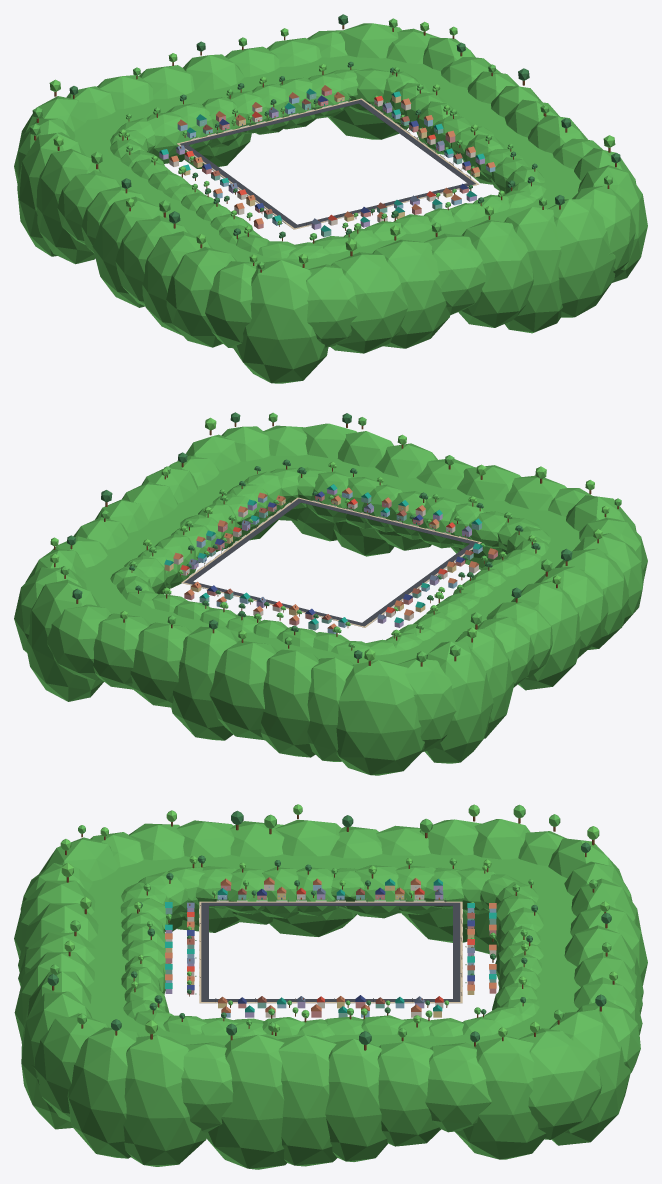
Rendered from CatCafe_Neighbourhood_Backdrop.glb.
3 renders of one model, top to bottom at view 1: azimuth 30°, elevation 25°; view 2: azimuth 150°, elevation 25°; view 3: azimuth 270°, elevation 25°, orthographic. The views are drawn at different scales.
Parts seen in each view (by area): view 1: CatCafe_Neighbourhood_Backdrop_HillsFar, CatCafe_Neighbourhood_Backdrop_Hills, CatCafe_Neighbourhood_Backdrop_Ground, CatCafe_Neighbourhood_Backdrop, CatCafe_Neighbourhood_Backdrop_Road; view 2: CatCafe_Neighbourhood_Backdrop_HillsFar, CatCafe_Neighbourhood_Backdrop_Hills, CatCafe_Neighbourhood_Backdrop_Ground, CatCafe_Neighbourhood_Backdrop, CatCafe_Neighbourhood_Backdrop_Road; view 3: CatCafe_Neighbourhood_Backdrop_HillsFar, CatCafe_Neighbourhood_Backdrop_Hills, CatCafe_Neighbourhood_Backdrop_Ground, CatCafe_Neighbourhood_Backdrop, CatCafe_Neighbourhood_Backdrop_Road.
Boxes of the visible parts, left/top/right/bottom form: CatCafe_Neighbourhood_Backdrop_HillsFar: left=14, top=23, right=647, bottom=383; CatCafe_Neighbourhood_Backdrop_Hills: left=110, top=68, right=546, bottom=259; CatCafe_Neighbourhood_Backdrop_Ground: left=74, top=55, right=581, bottom=268; CatCafe_Neighbourhood_Backdrop: left=29, top=14, right=620, bottom=272; CatCafe_Neighbourhood_Backdrop_Road: left=180, top=99, right=475, bottom=228; CatCafe_Neighbourhood_Backdrop_HillsFar: left=14, top=423, right=647, bottom=775; CatCafe_Neighbourhood_Backdrop_Hills: left=110, top=467, right=550, bottom=656; CatCafe_Neighbourhood_Backdrop_Ground: left=80, top=454, right=580, bottom=664; CatCafe_Neighbourhood_Backdrop: left=50, top=412, right=621, bottom=666; CatCafe_Neighbourhood_Backdrop_Road: left=184, top=498, right=478, bottom=626; CatCafe_Neighbourhood_Backdrop_HillsFar: left=14, top=819, right=647, bottom=1169; CatCafe_Neighbourhood_Backdrop_Hills: left=120, top=865, right=543, bottom=1037; CatCafe_Neighbourhood_Backdrop_Ground: left=86, top=853, right=580, bottom=1048; CatCafe_Neighbourhood_Backdrop: left=47, top=804, right=617, bottom=1050; CatCafe_Neighbourhood_Backdrop_Road: left=201, top=902, right=460, bottom=1001.
Bounding box in the file's own units: 806 × 230 × 839.
1 material, 1 textured.
